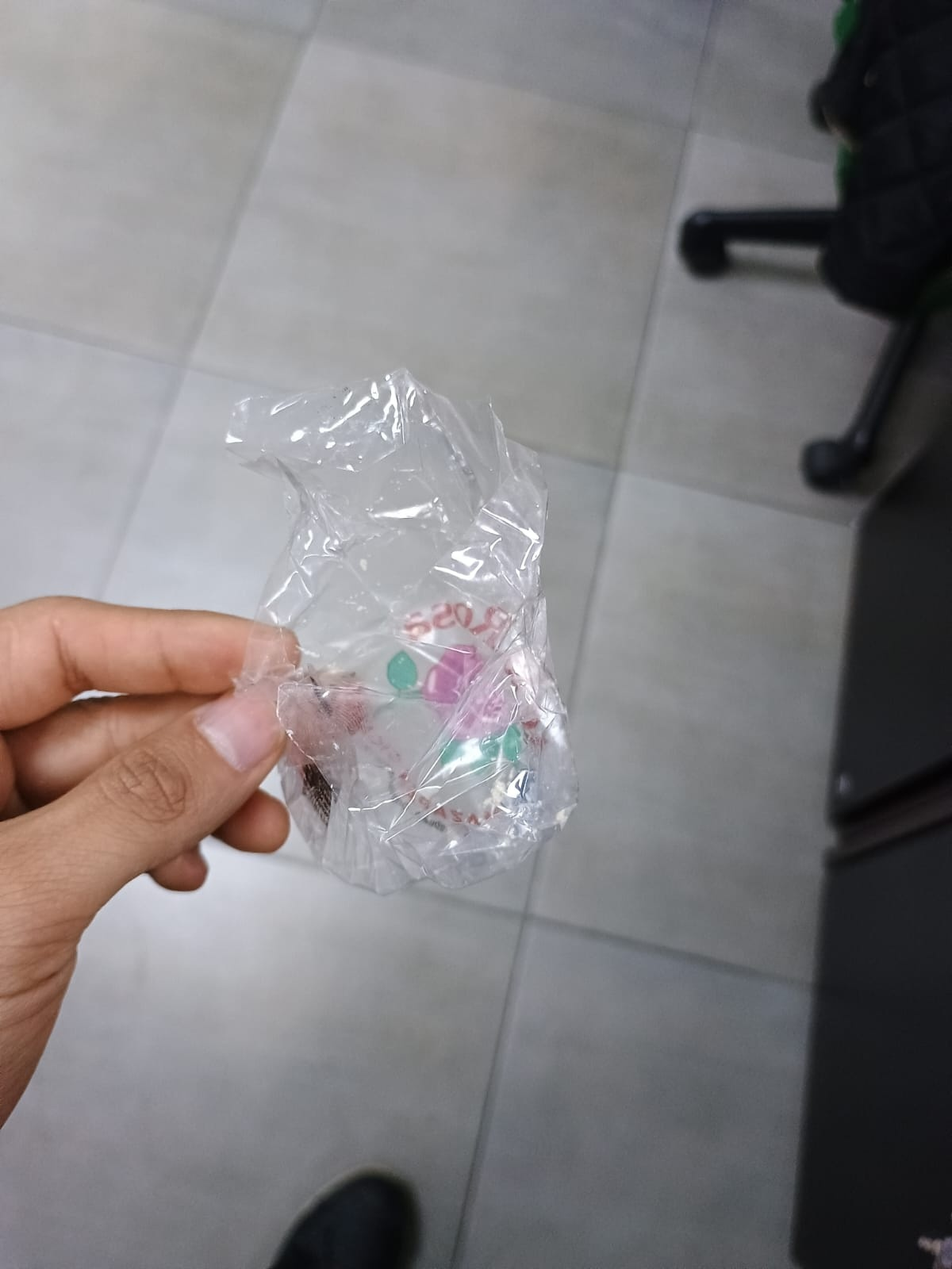Ordinario: (220, 372, 575, 897)
